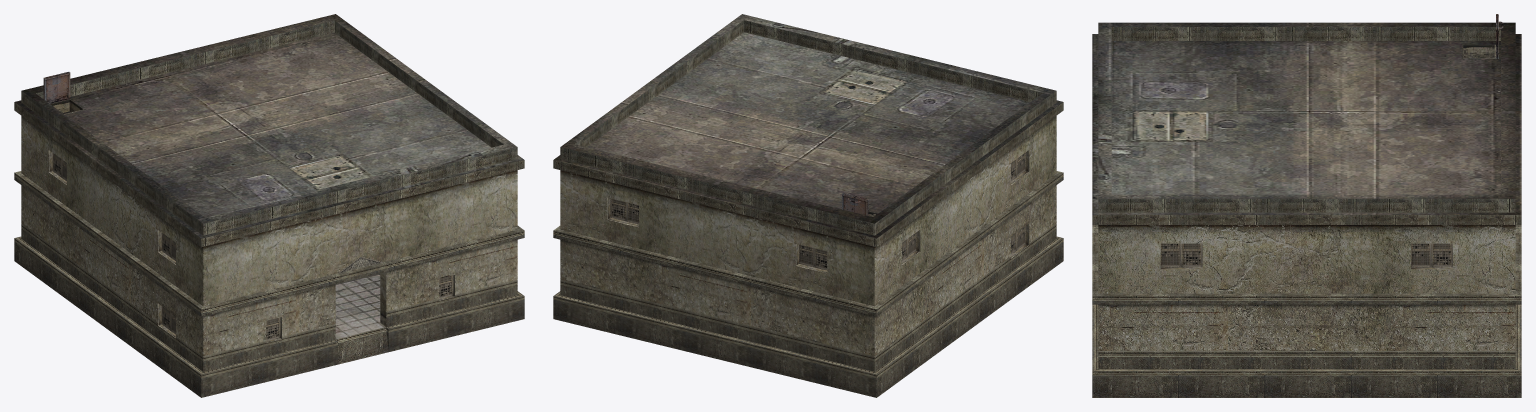
The model's file is SP_Bld1.glb.
3 renders of one model, left to right at view 1: azimuth 30°, elevation 25°; view 2: azimuth 150°, elevation 25°; view 3: azimuth 270°, elevation 25°, orthographic. The views are drawn at different scales.
Parts seen in each view (by area): view 1: _SP_Bld1; view 2: _SP_Bld1; view 3: _SP_Bld1.
Boxes of the visible parts, left/top/right/bottom form: _SP_Bld1: left=14, top=14, right=524, bottom=397; _SP_Bld1: left=553, top=14, right=1063, bottom=397; _SP_Bld1: left=1092, top=14, right=1521, bottom=397.
Bounding box in the file's own units: 20.55 × 11.3 × 20.57.
Materials: 5 (5 with a texture image).
